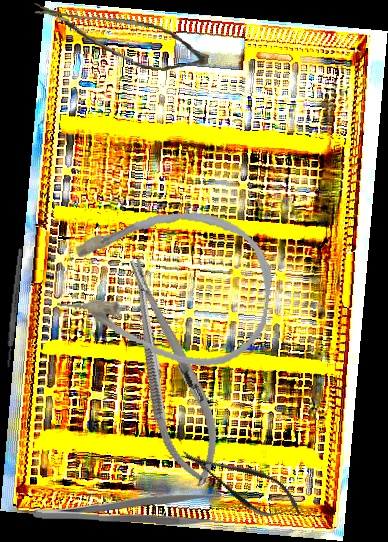Cannula: (51, 195, 280, 374)
Dressing Forceps: (32, 489, 224, 527)
Micro Scissor: (172, 432, 311, 533), (26, 2, 213, 76)
Needle Holder: (107, 250, 234, 493)
Scalpel Handle: (4, 247, 25, 369)
